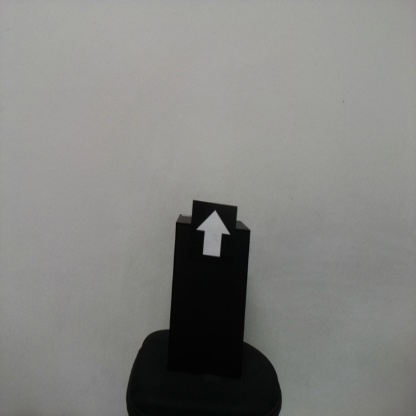id_1: (192, 203, 237, 267)
